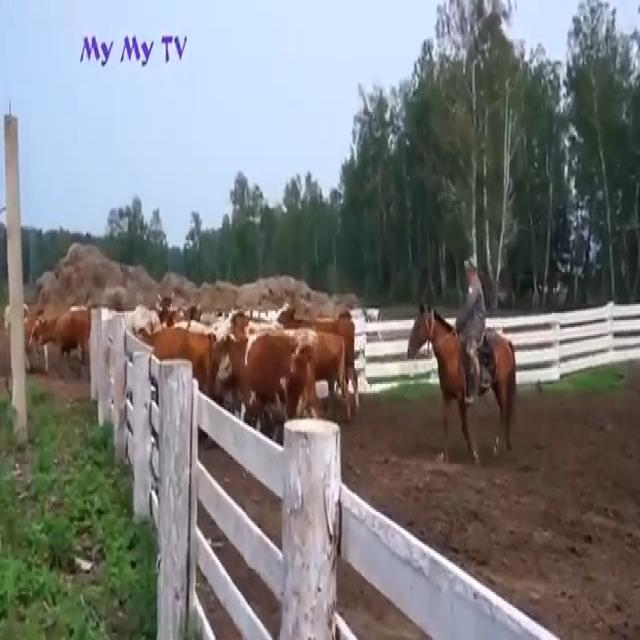cow: (216, 328, 316, 427), (31, 296, 101, 373)
